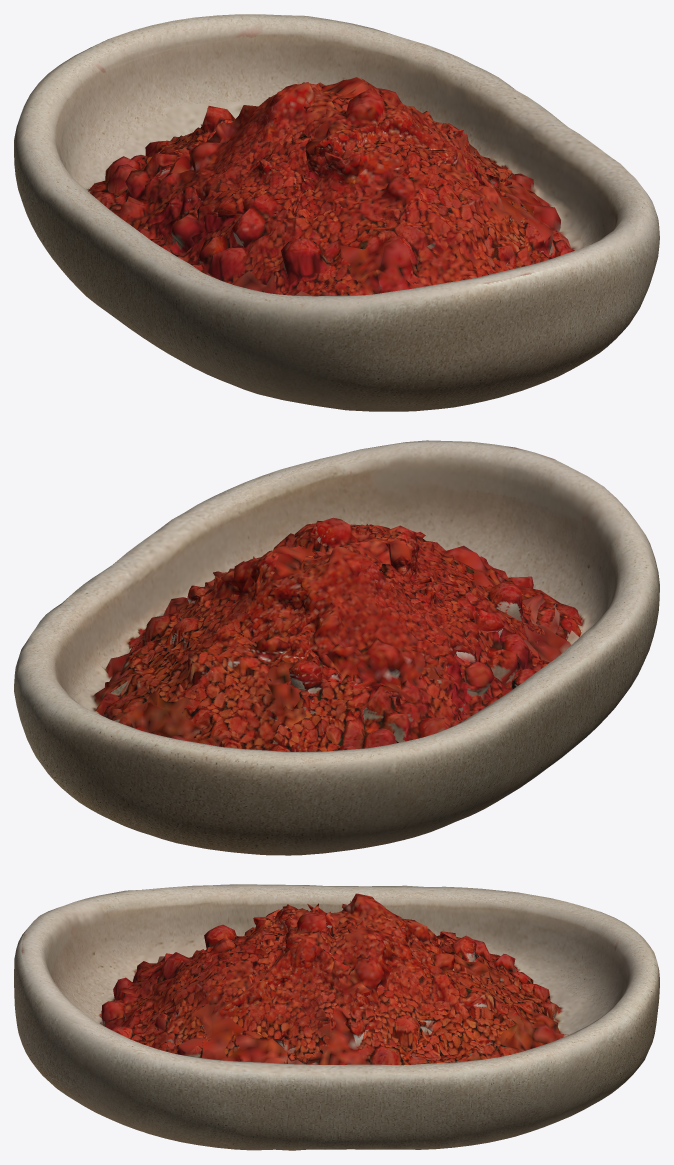
The model's file is Prop_PowderDish_Red.fbx.
The picture shows the model from 3 angles, top to bottom: view 1: azimuth 30°, elevation 25°; view 2: azimuth 150°, elevation 25°; view 3: azimuth 270°, elevation 25°; orthographic projection. The views are drawn at different scales.
Visible parts, largest first — view 1: texture_mapping; view 2: texture_mapping; view 3: texture_mapping.
Part boxes in pixels (bbox=[...]): texture_mapping: bbox=[14, 14, 659, 411]; texture_mapping: bbox=[14, 440, 659, 855]; texture_mapping: bbox=[14, 884, 659, 1150].
Size of the model in its own units: 0.709 by 0.9994 by 0.3085.
1 material, 1 textured.
